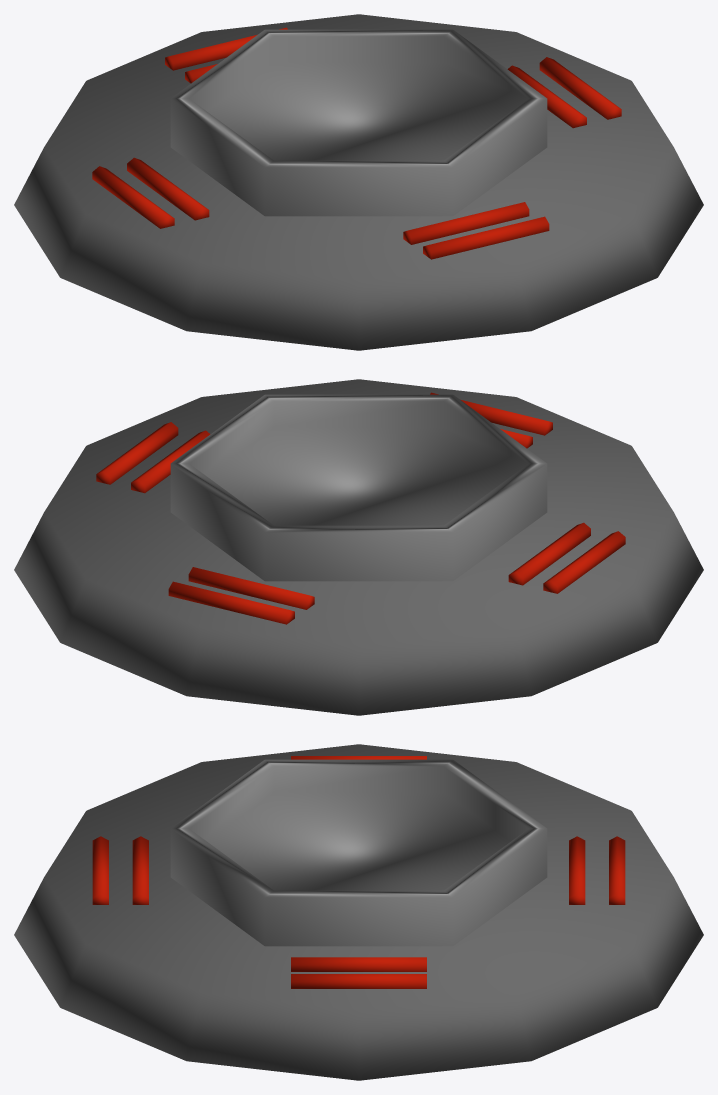
The model's file is item-landmine.glb.
3 views of the same model, one above another, from view 1: azimuth 30°, elevation 25°; view 2: azimuth 150°, elevation 25°; view 3: azimuth 270°, elevation 25° (orthographic).
Size of the model in its own units: 2.19 by 0.3725 by 2.19.
